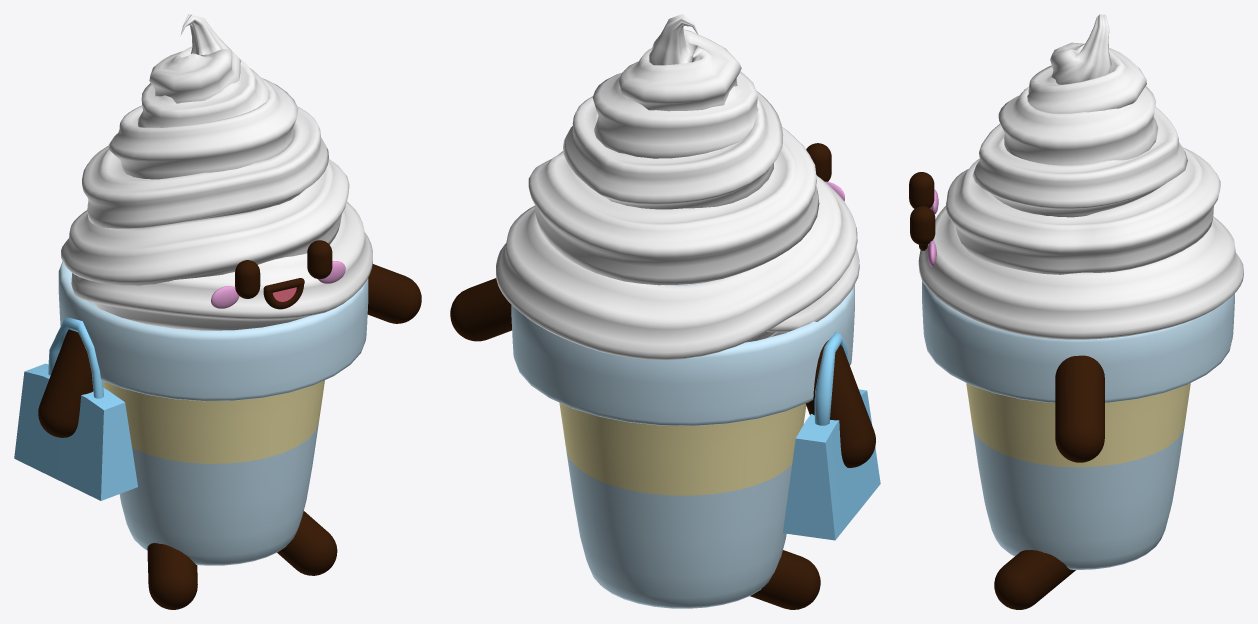
File: AI Mascot Greetings.fbx
3 renders of one model, left to right at view 1: azimuth 30°, elevation 25°; view 2: azimuth 150°, elevation 25°; view 3: azimuth 270°, elevation 25°, orthographic. The views are drawn at different scales.
Parts seen in each view (by area): view 1: cream, cone, Bag, Left foot, Right hand, Left hand, Mouth talking, Right eye, Left eye; view 2: cream, cone, Bag, Right hand, Left hand, Left foot, Left eye; view 3: cream, cone, Left hand, Left foot, Right eye, Left eye.
Part boxes in pixels (<box>): cream: <box>61,14,372,330</box>; cone: <box>58,261,368,565</box>; Bag: <box>14,317,137,500</box>; Left foot: <box>147,511,337,609</box>; Right hand: <box>38,319,93,437</box>; Left hand: <box>367,264,421,323</box>; Mouth talking: <box>263,278,304,309</box>; Right eye: <box>307,240,332,279</box>; Left eye: <box>235,260,260,298</box>; cream: <box>496,14,859,360</box>; cone: <box>511,282,854,608</box>; Bag: <box>783,332,880,540</box>; Right hand: <box>805,340,875,467</box>; Left hand: <box>450,278,511,341</box>; Left foot: <box>750,550,820,609</box>; Left eye: <box>806,143,831,181</box>; cream: <box>918,14,1243,339</box>; cone: <box>922,281,1234,569</box>; Left hand: <box>1055,355,1104,462</box>; Left foot: <box>994,550,1075,609</box>; Right eye: <box>910,206,935,245</box>; Left eye: <box>909,172,934,208</box>.
Bounding box in the file's own units: 384 × 534 × 292.
